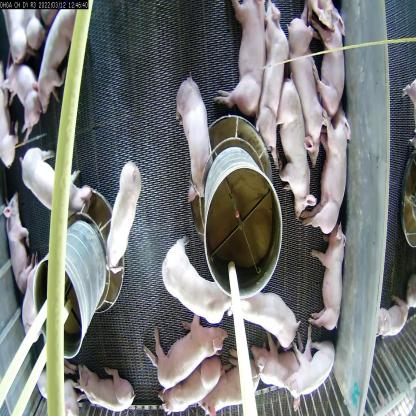Pig: (285, 16, 326, 164), (315, 111, 357, 243), (157, 244, 229, 320), (278, 76, 314, 209), (26, 148, 87, 224), (229, 0, 266, 121), (226, 282, 303, 340), (149, 314, 221, 374), (106, 166, 145, 274), (316, 225, 352, 342), (38, 5, 76, 111), (166, 343, 220, 416), (204, 359, 263, 415), (264, 0, 284, 158), (316, 0, 346, 101), (85, 362, 140, 415), (249, 339, 299, 395), (0, 203, 32, 285), (8, 70, 44, 140), (35, 368, 84, 415), (289, 349, 330, 398)
